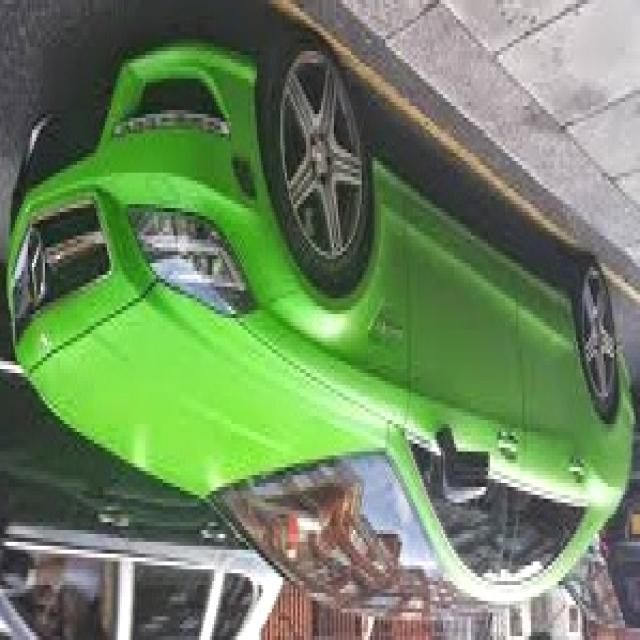green: (5, 38, 640, 627)
